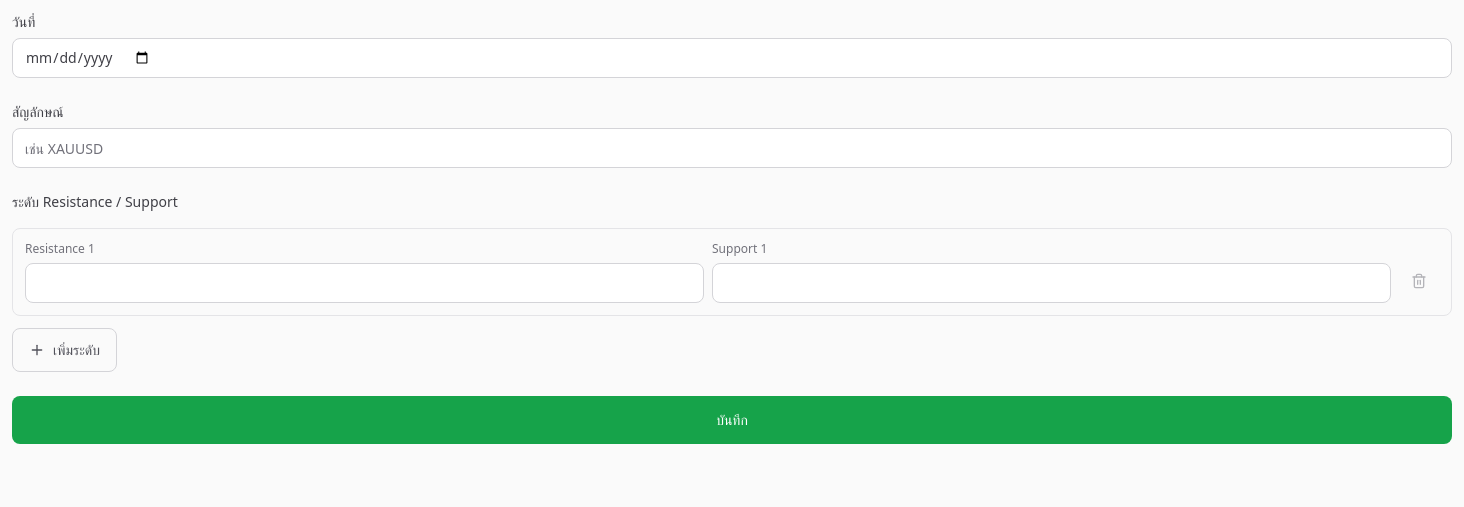
PriceAlertForm › shows an error when date is empty
The image size is (1464, 507).
Type "XAUUSD" into the field labelled "สัญลักษณ์". click: {"x": 732, "y": 148}
box: [12,128,1452,168]
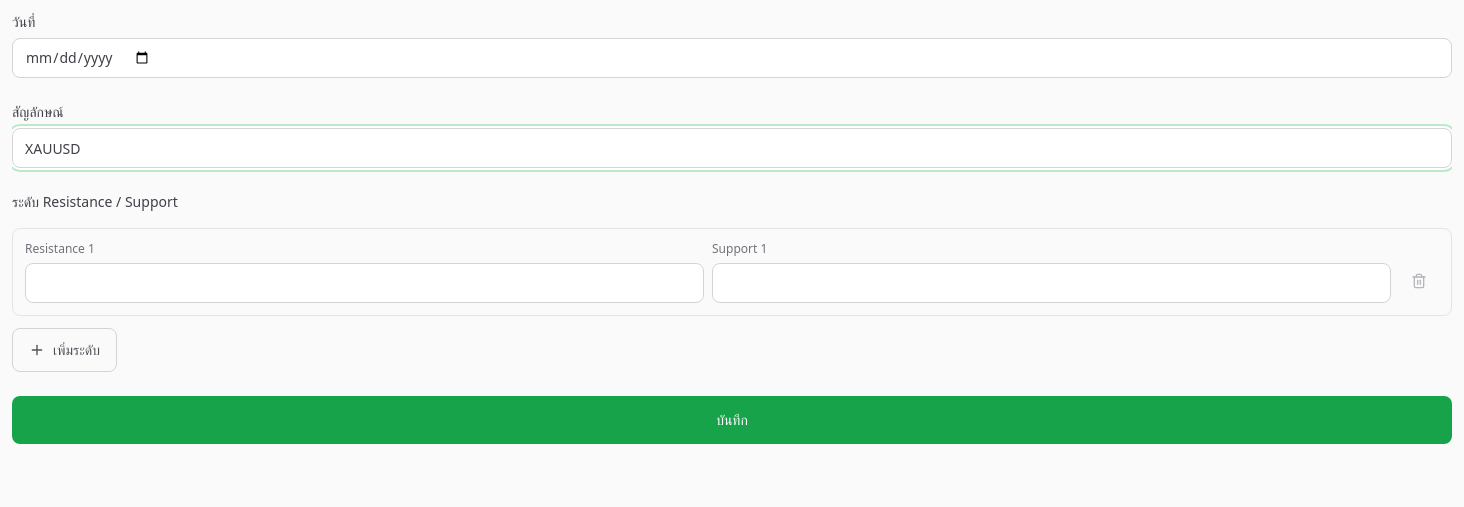
Type "100" into the number field labelled "Resistance 1". click: {"x": 364, "y": 283}
box: [25,263,704,303]
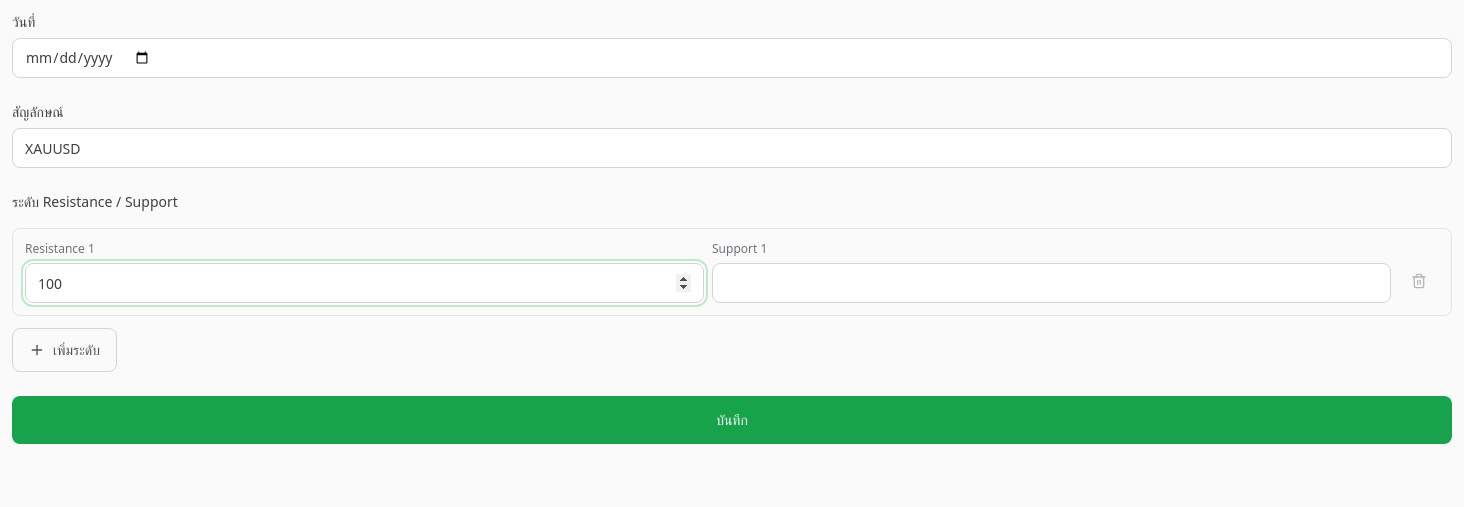
Click the button "บันทึก". click: {"x": 732, "y": 420}
box: [12,396,1452,444]
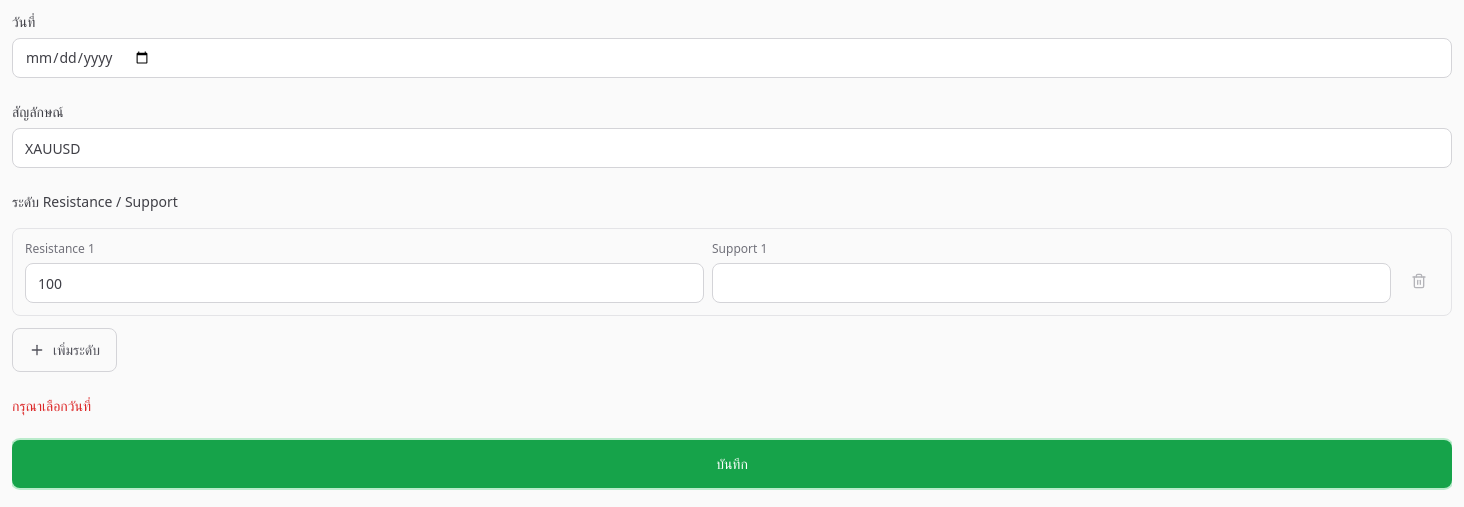
Check: the message reads "กรุณาเลือกวันที่", box [12,396,91,415]
